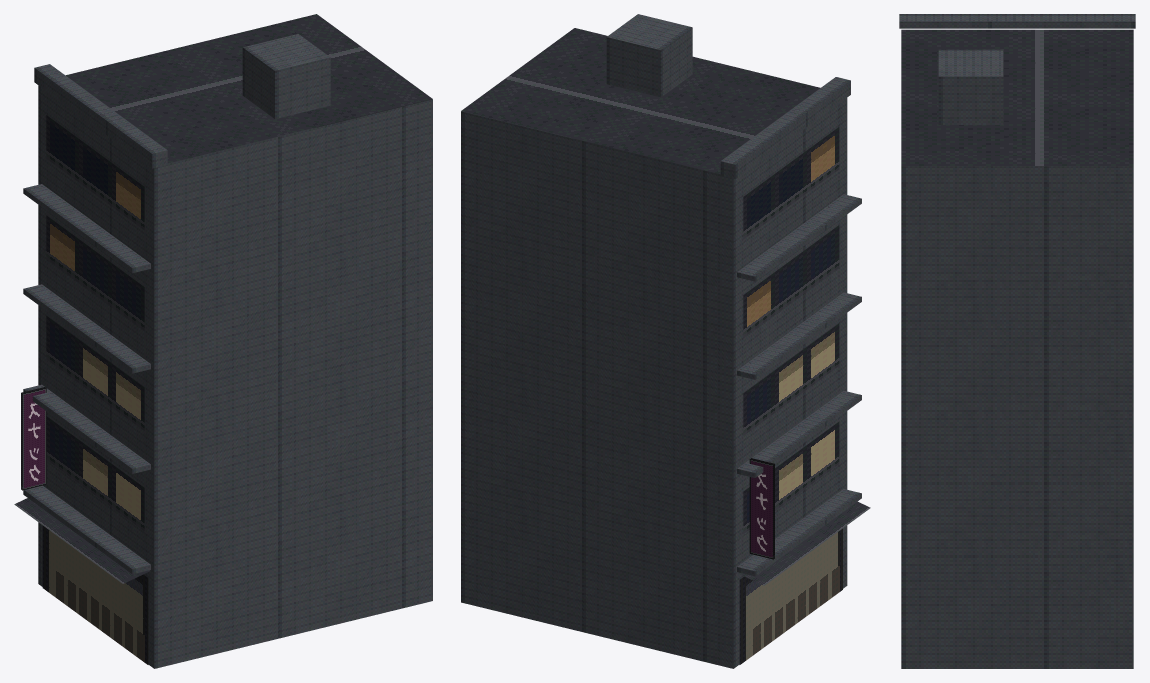
Rendered from mtn_block_al_b.glb.
The picture shows the model from 3 angles, left to right: view 1: azimuth 30°, elevation 25°; view 2: azimuth 150°, elevation 25°; view 3: azimuth 270°, elevation 25°; orthographic projection. The views are drawn at different scales.
Visible parts, largest first — view 1: mtn_block_al_b; view 2: mtn_block_al_b; view 3: mtn_block_al_b.
Part boxes in pixels (box(x1,y1,x2,y2)): mtn_block_al_b: box(14, 14, 432, 668); mtn_block_al_b: box(461, 14, 870, 668); mtn_block_al_b: box(899, 14, 1135, 668).
Size of the model in its own units: 9.95 by 17 by 6.6.
Materials: 5 (5 with a texture image).
